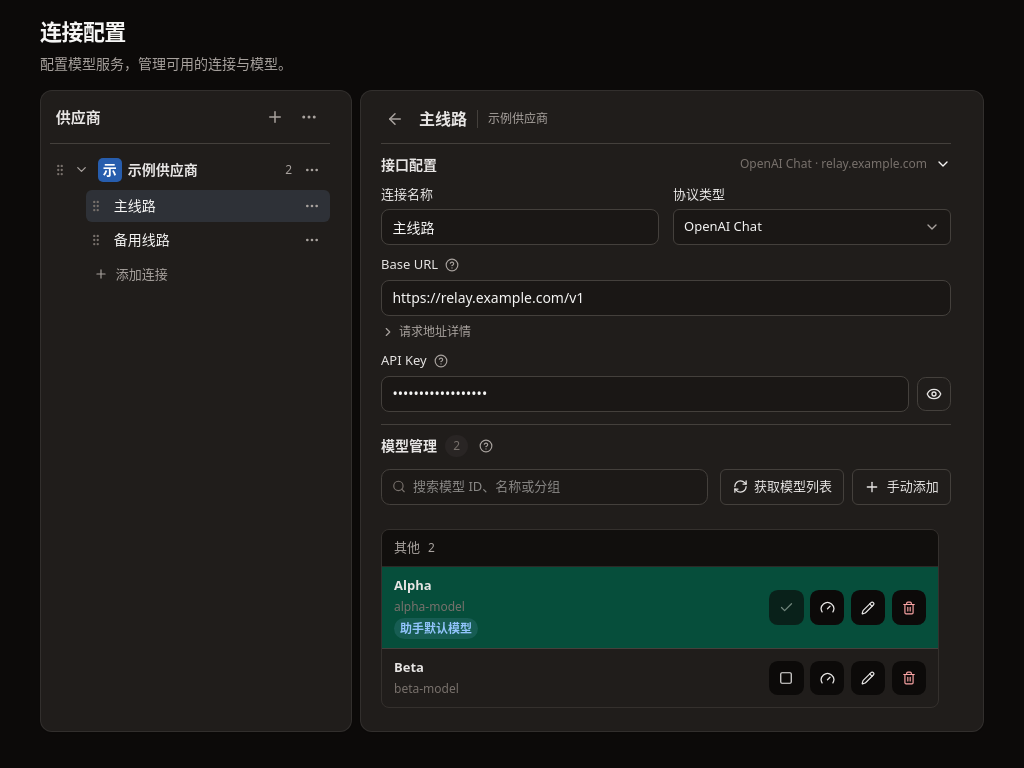
ConnectionSettings › preserves a model draft and restores focus when confirmation is dismissed with Escape
This screenshot has width=1024, height=768.
Click the button named "编辑模型 beta-model" at coordinates (868, 678), box [851,661,885,695]
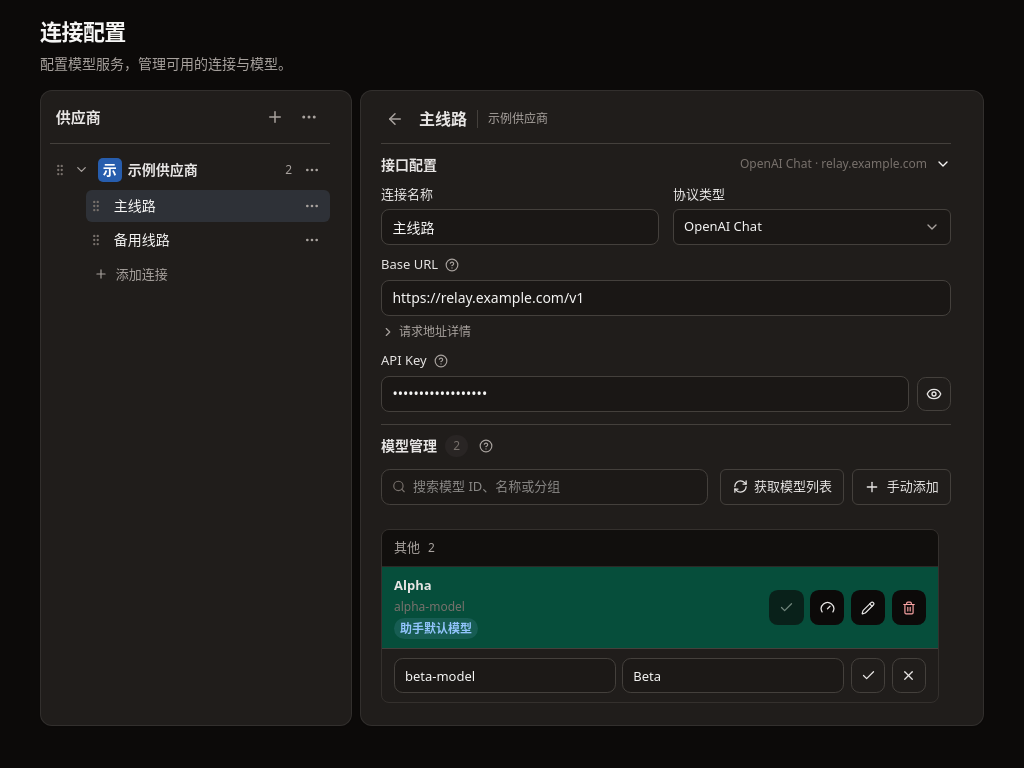
Replace the text in the 1st field named "modelId" with "unsaved-model" at coordinates (505, 676), box [394,658,616,693]
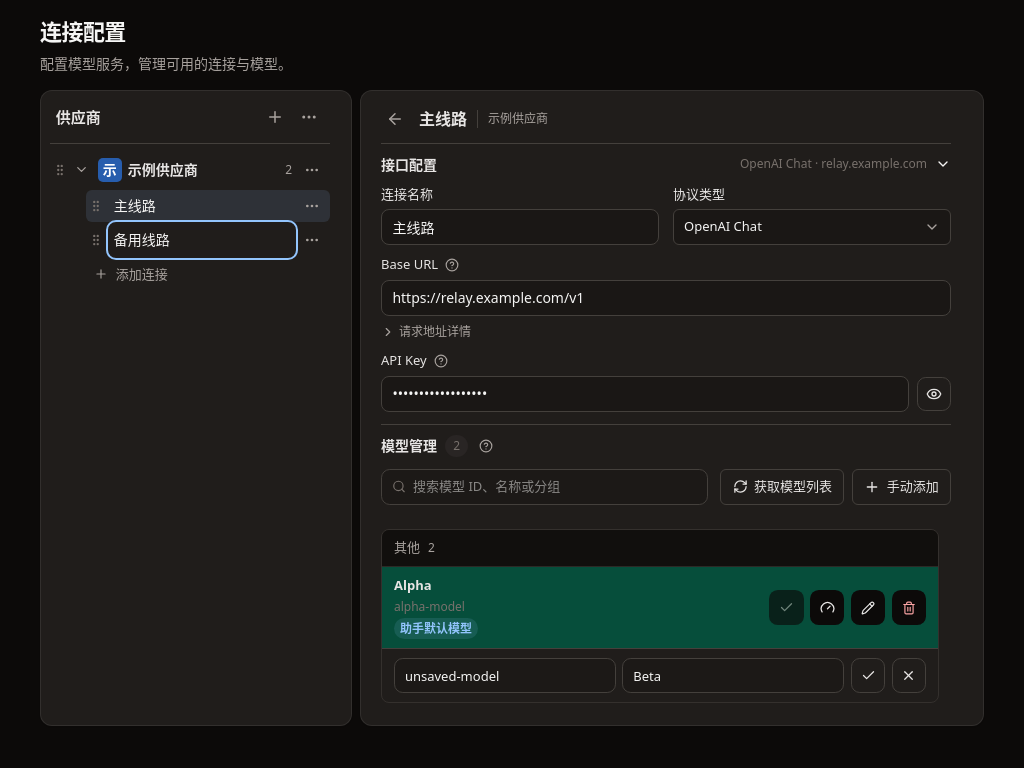
Click the button "备用线路" at coordinates (202, 240), box [110,224,294,256]
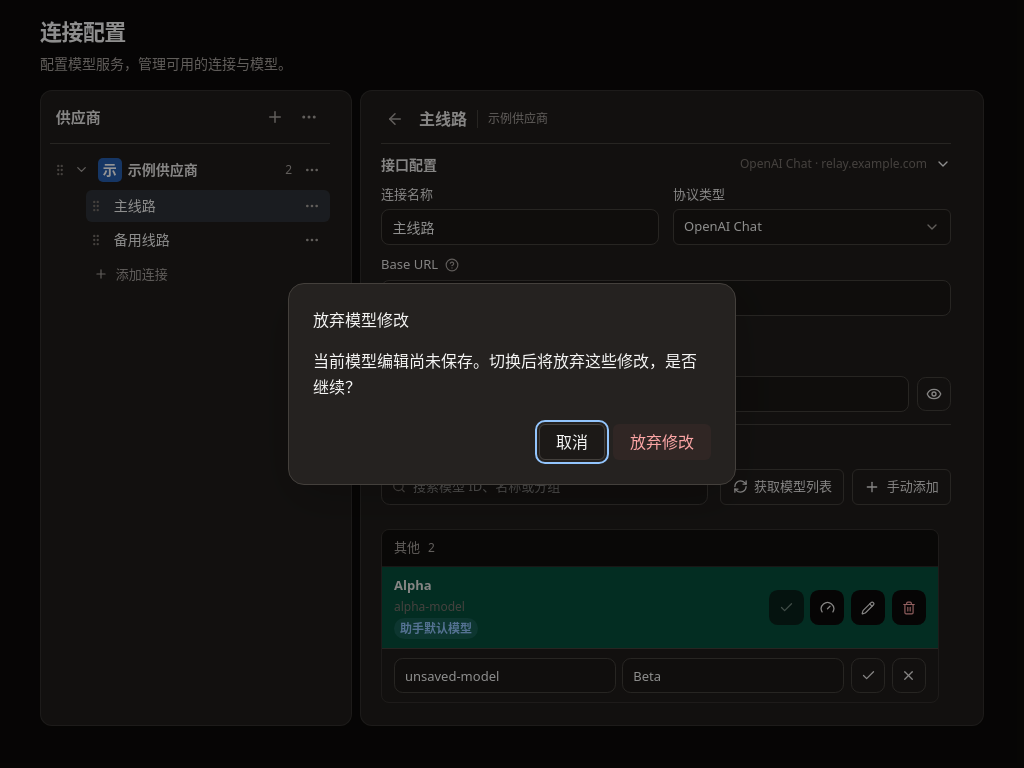
Press Escape in the dialog with class "confirmation-dialog", box [288,283,736,485]
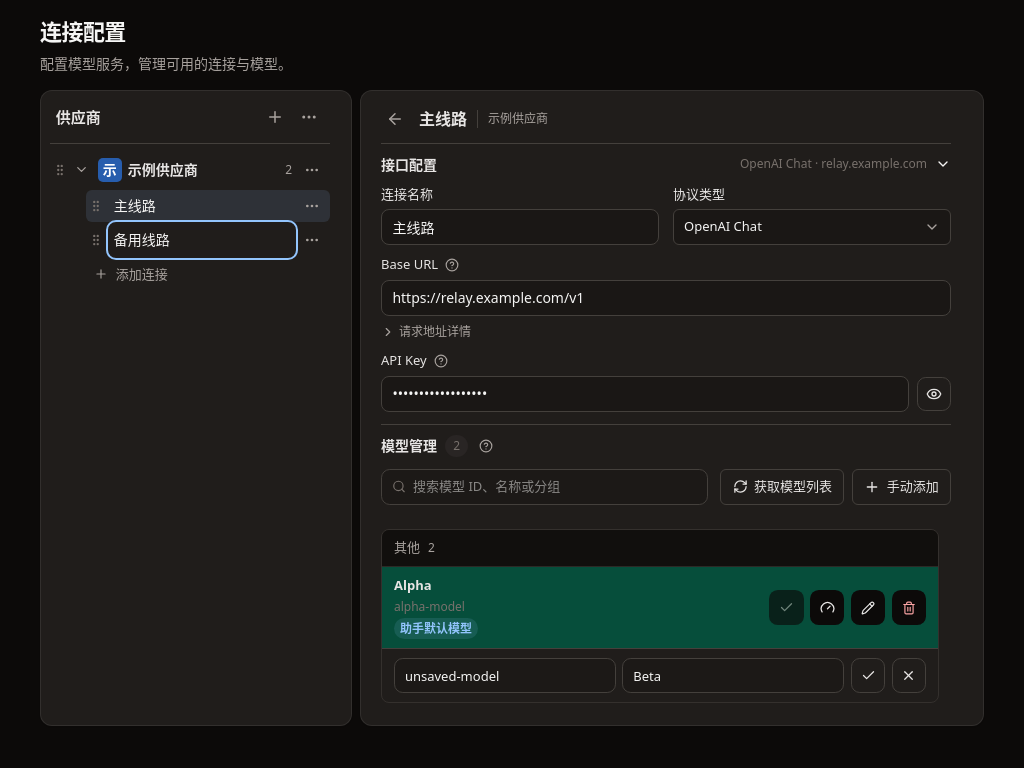
Check: the dialog with class "confirmation-dialog" is gone
